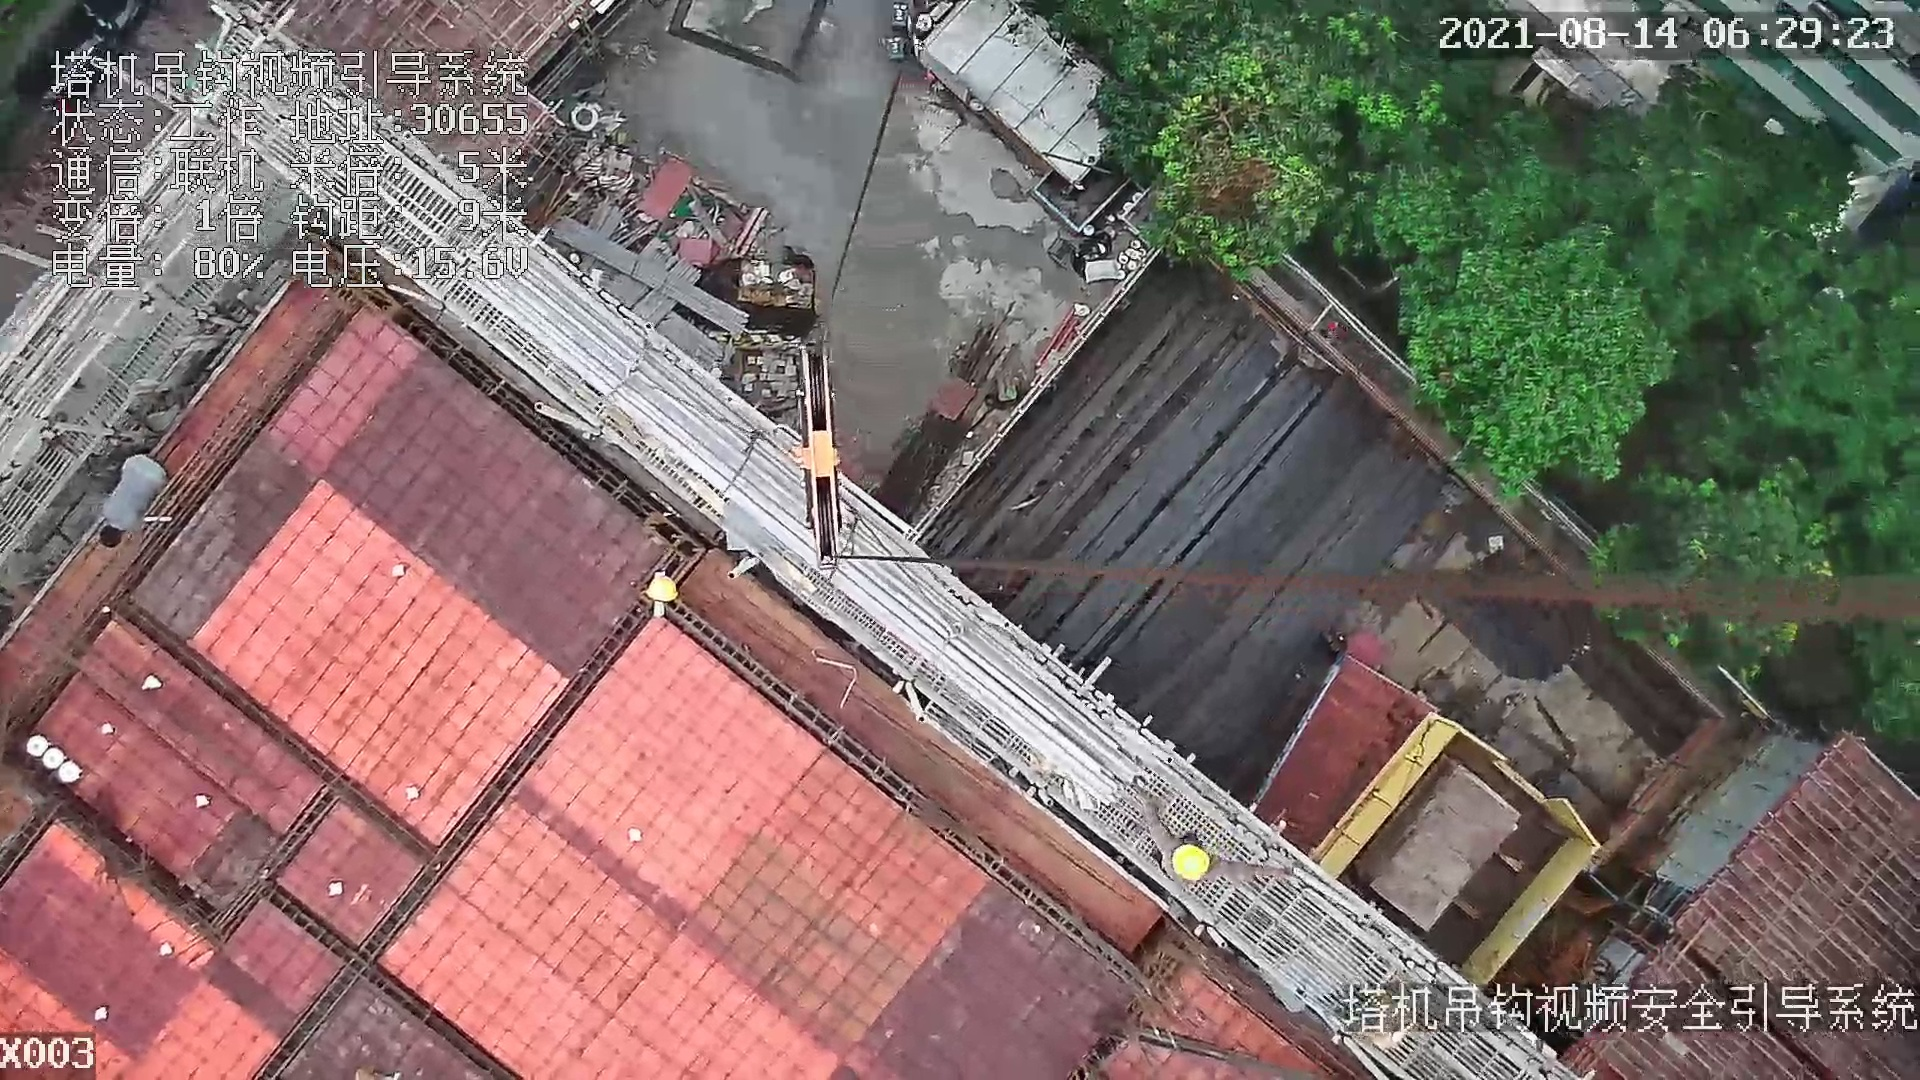helmet: (1170, 844, 1212, 889), (641, 568, 686, 608)
hook: (785, 342, 846, 571)
person: (1132, 791, 1300, 901)
rebar: (956, 291, 1437, 737)
